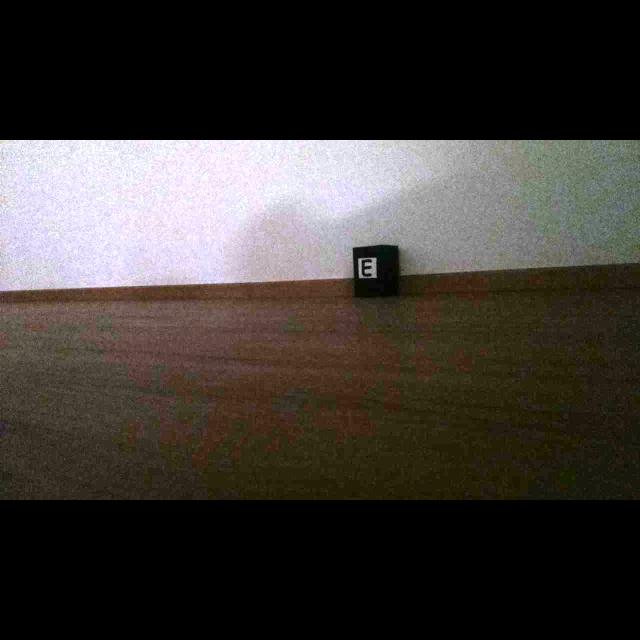E: (361, 259, 372, 276)
